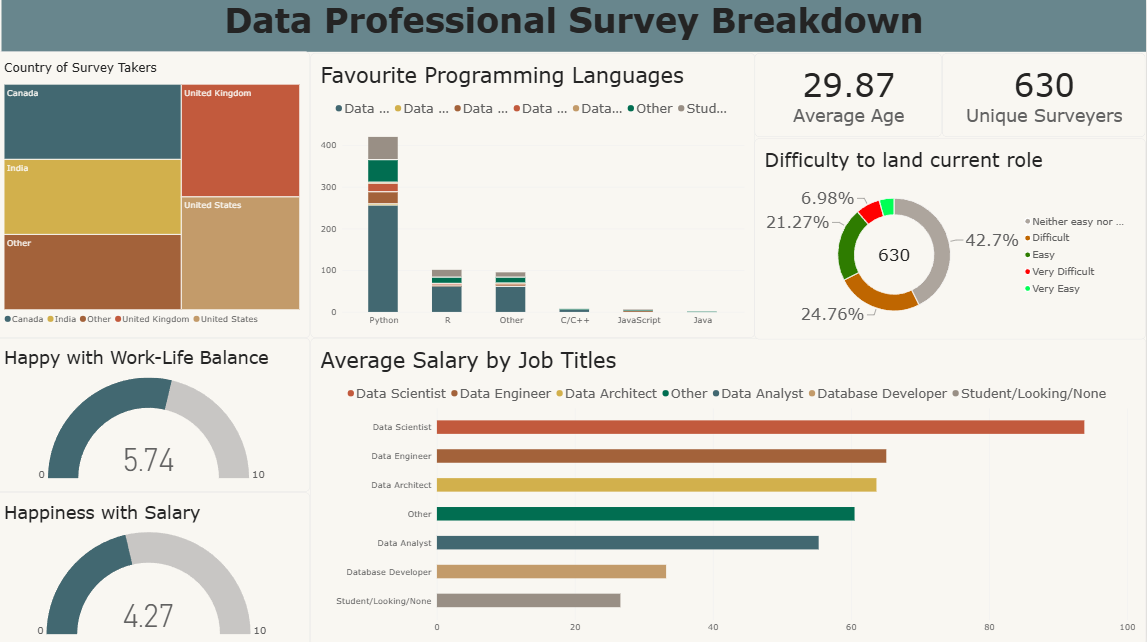

What the dashboard file says about the page in this screenshot:
{"tool":"powerbi","page":{"name":"Page 1","canvas":[1920,1080],"ordinal":0},"visuals":[{"type":"textbox","box":[11.3,0,1907.7,87.9],"z":0},{"type":"cardVisual","fields":{"Data":["Count(Data Professional Survey.Unique ID)"]},"box":[1579.6,91,339.5,140.2],"z":1000},{"type":"cardVisual","fields":{"Data":["Avg(Data Professional Survey.Q10 - Current Age)"]},"box":[1267.2,91,312.5,140.2],"z":2000},{"type":"barChart","title":"Average Salary by Job Titles","fields":{"Category":["Data Professional Survey.Q1 - Which Title Best Fits your Current Role?.1.1"],"Series":["Data Professional Survey.Q1 - Which Title Best Fits your Current Role?.1.1"],"Y":["Avg(Data Professional Survey.Average Salary)"]},"box":[526.5,565.9,1392.6,511.8],"z":3000},{"type":"columnChart","title":"Favourite Programming Languages","fields":{"Category":["Data Professional Survey.Q5 - Favorite Programming Language.1"],"Series":["Data Professional Survey.Q1 - Which Title Best Fits your Current Role?.1.1"],"Y":["CountNonNull(Data Professional Survey.Unique ID)"]},"box":[526.5,91,740.6,474.9],"z":4000},{"type":"treemap","title":"Country of Survey Takers","fields":{"Group":["Data Professional Survey.Q11 - Which Country do you live in?.1"],"Values":["Count(Data Professional Survey.Q11 - Which Country do you live in?.1)"]},"box":[0,88.6,526.5,477.3],"z":5000},{"type":"gauge","title":"Happiness with Salary","fields":{"MaxValue":["Max(Data Professional Survey.Q6 - How Happy are you in your Current Position with the following? (Salary))2"],"MinValue":["Min(Data Professional Survey.Q6 - How Happy are you in your Current Position with the following? (Salary))1"],"Y":["Avg(Data Professional Survey.Q6 - How Happy are you in your Current Position with the following? (Salary))"]},"box":[0,821.8,526.5,258.4],"z":6000},{"type":"gauge","title":"Happy with Work-Life Balance","fields":{"MaxValue":["Max(Data Professional Survey.Q6 - How Happy are you in your Current Position with the following? (Work/Life Balance))"],"MinValue":["Min(Data Professional Survey.Q6 - How Happy are you in your Current Position with the following? (Work/Life Balance))"],"Y":["Avg(Data Professional Survey.Q6 - How Happy are you in your Current Position with the following? (Work/Life Balance))1"]},"box":[0,565.9,526.5,255.9],"z":7000},{"type":"donutChart","title":"Difficulty to land current role","fields":{"Category":["Data Professional Survey.Q7 - How difficult was it for you to break into Data?"],"Y":["CountNonNull(Data Professional Survey.Q7 - How difficult was it for you to break into Data?)"]},"box":[1267.2,231.3,652,334.6],"z":7001}]}

Visuals, with their boxes in screenshot pixels (x1, y1, x2, y2), scaled from the page's 1920x1080 canvas onto the 1147x642 screenshot:
textbox: left=7, top=0, right=1146, bottom=52
cardVisual - Count(Data Professional Survey.Unique ID): left=944, top=54, right=1146, bottom=137
cardVisual - Avg(Data Professional Survey.Q10 - Current Age): left=757, top=54, right=944, bottom=137
"Average Salary by Job Titles" barChart: left=315, top=336, right=1146, bottom=641
"Favourite Programming Languages" columnChart: left=315, top=54, right=757, bottom=336
"Country of Survey Takers" treemap: left=0, top=53, right=315, bottom=336
"Happiness with Salary" gauge: left=0, top=489, right=315, bottom=641
"Happy with Work-Life Balance" gauge: left=0, top=336, right=315, bottom=489
"Difficulty to land current role" donutChart: left=757, top=137, right=1146, bottom=336
